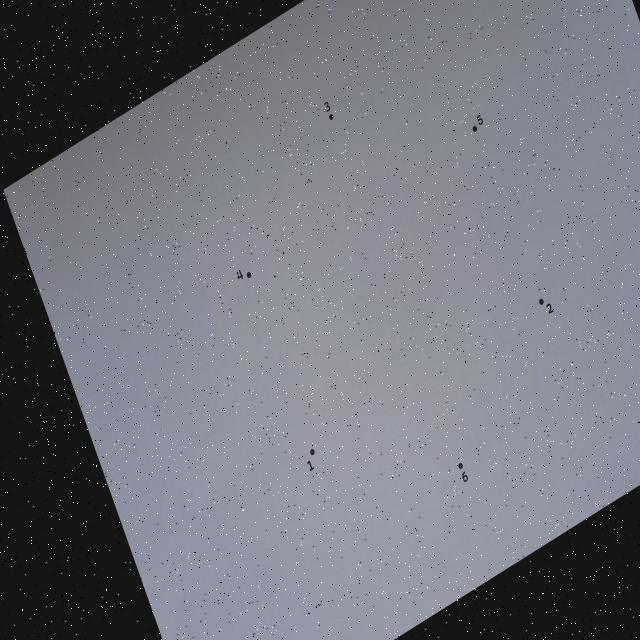Dot: (310, 448, 315, 456), (472, 126, 478, 132), (246, 272, 252, 278), (458, 463, 463, 469), (539, 299, 544, 305), (329, 114, 334, 120)
DotNumber: (539, 298, 554, 314), (472, 114, 483, 133), (458, 462, 468, 482), (307, 448, 315, 472), (236, 269, 252, 281), (324, 102, 334, 120)
Number: (546, 303, 554, 314), (476, 114, 484, 125), (307, 460, 314, 471), (324, 102, 331, 112), (462, 471, 468, 482), (237, 269, 243, 280)
